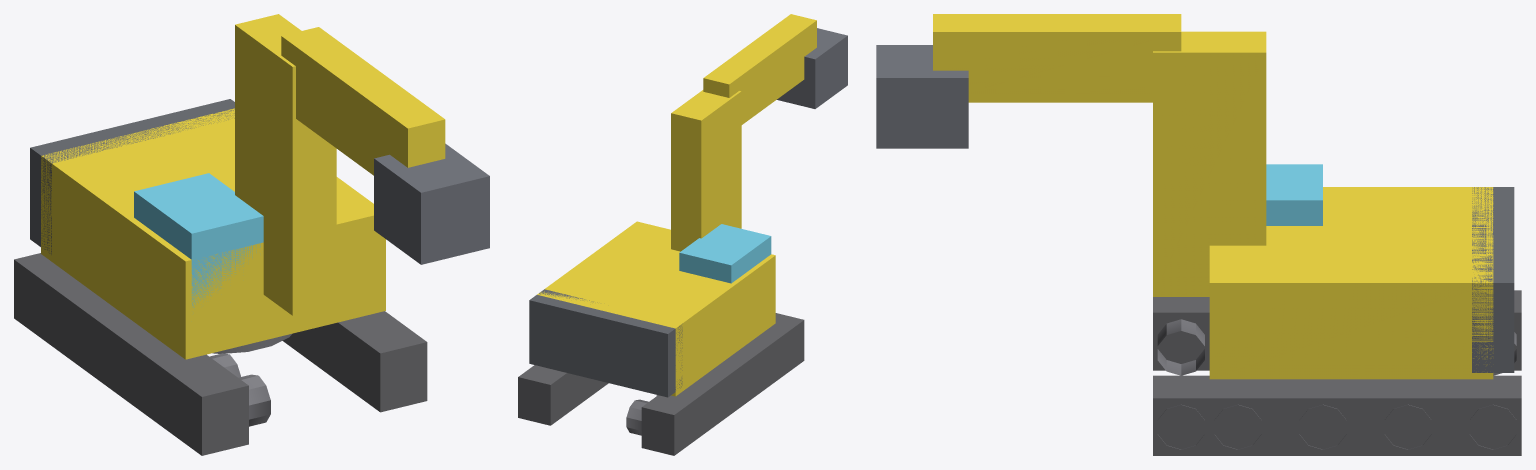
Rendered from hydraulic_excavator.glb.
3 renders of one model, left to right at view 1: azimuth 30°, elevation 25°; view 2: azimuth 150°, elevation 25°; view 3: azimuth 270°, elevation 25°, orthographic. The views are drawn at different scales.
Visible parts, largest first — view 1: ExcavatorDeck (×3), ExcavatorBoom (×3), CrawlerTrackL, CrawlerTrackR, RollerL_2.2, TurntableRing; view 2: ExcavatorDeck (×3), ExcavatorBoom (×3), CrawlerTrackL, CrawlerTrackR, RollerL_-2.2; view 3: ExcavatorDeck (×3), ExcavatorBoom (×3), CrawlerTrackR, CrawlerTrackL, RollerL_2.2.
Boxes of the visible parts, x1,y1,x2,y2 form: ExcavatorDeck (×3): (30,99,385,359); ExcavatorBoom (×3): (235,14,489,315); CrawlerTrackL: (14,253,248,455); CrawlerTrackR: (282,311,427,412); RollerL_2.2: (238,374,270,426); TurntableRing: (212,334,291,353); ExcavatorDeck (×3): (529,221,775,397); ExcavatorBoom (×3): (671,14,847,251); CrawlerTrackL: (641,313,804,455); CrawlerTrackR: (518,365,608,425); RollerL_-2.2: (626,399,648,435); ExcavatorDeck (×3): (1209,164,1514,379); ExcavatorBoom (×3): (876,14,1266,296); CrawlerTrackR: (1153,375,1521,455); CrawlerTrackL: (1153,290,1521,370); RollerL_2.2: (1157,319,1204,375).
Bounding box in the file's own units: 3.61 × 5.9 × 9.1.
